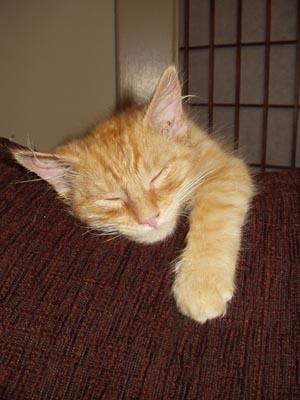cat: (10, 64, 256, 325)
